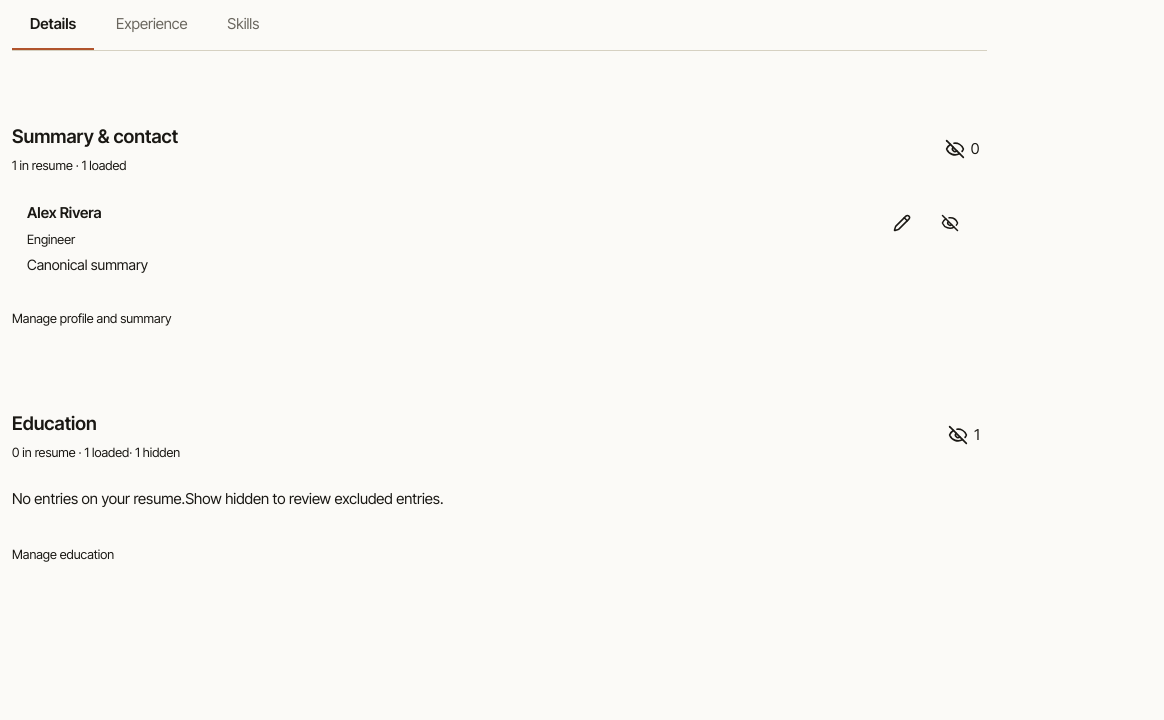
it: Resume section tabs › groups role duties by their section heading and keeps project bullets nested below the project
Click the tab with id "resume-tab-experience". click: (152, 25)
box: [98,0,206,50]
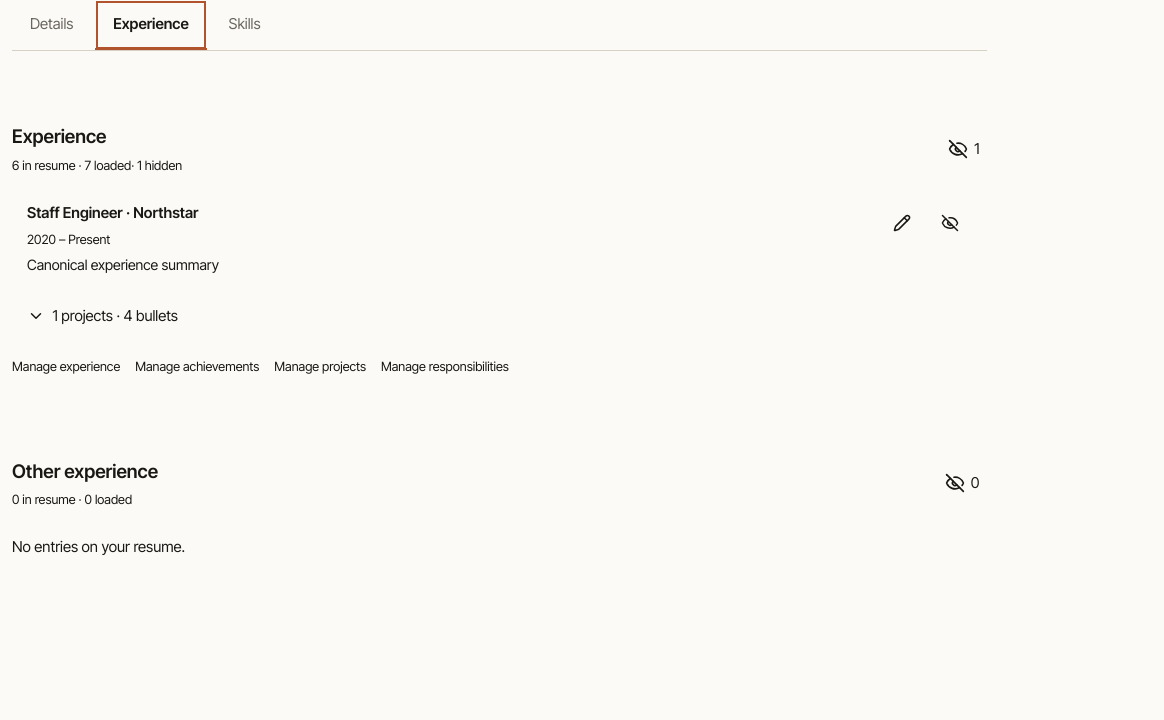
Expected: the button with id "resume-children-raw-experience" is shown
Click the button with id "resume-children-raw-experience". click: (102, 316)
box: [20,294,185,338]
(page scrolled)
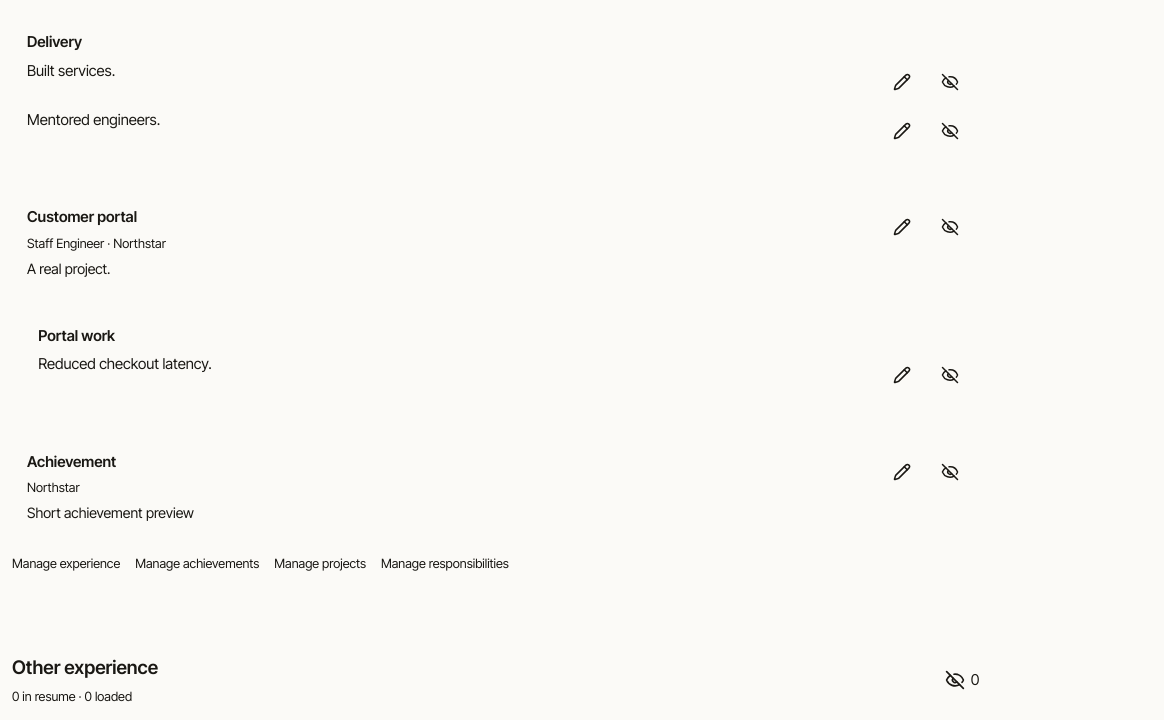
Expected: the text "Built services." is shown, [27,61,115,80]
Expected: the text "Mentored engineers." is shown, [27,110,160,129]
Expected: the element with class "related-row" that starts with "Customer portal" is shown, [20,194,980,290]
